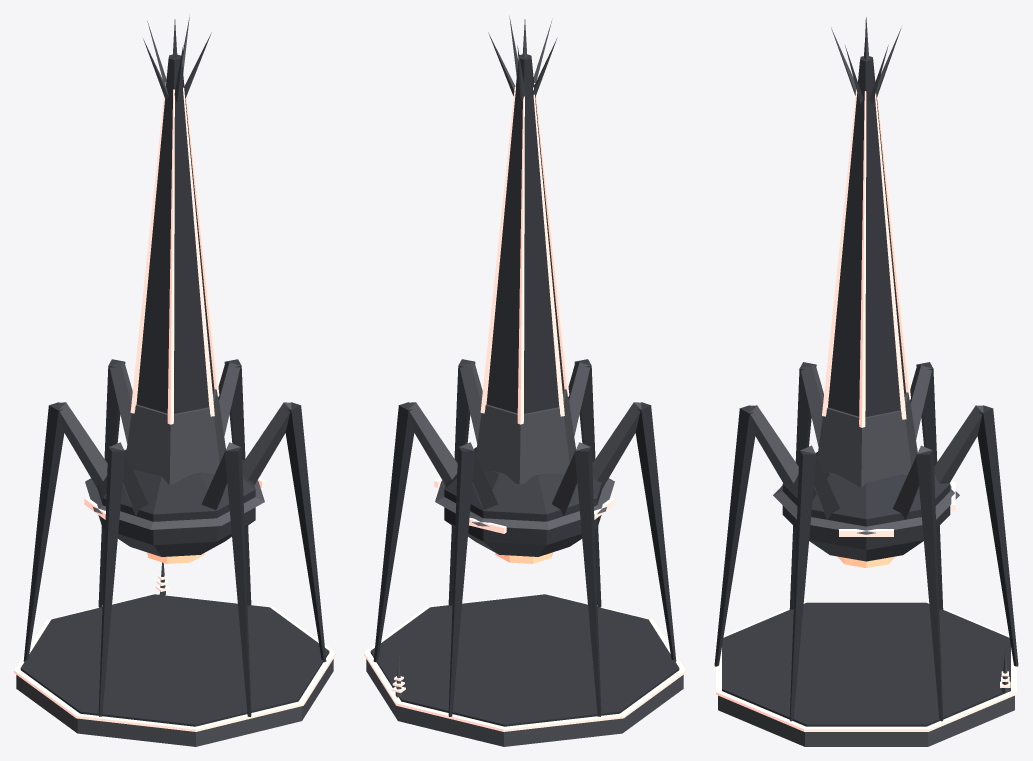
File: zone_high_4_t3.glb
3 views of the same model, side by side, from view 1: azimuth 30°, elevation 25°; view 2: azimuth 150°, elevation 25°; view 3: azimuth 270°, elevation 25° (orthographic).
Visible parts, largest first — view 1: zone_high_4_t3; view 2: zone_high_4_t3; view 3: zone_high_4_t3.
Boxes of the visible parts, x1,y1,x2,y2 form: zone_high_4_t3: (14, 17, 335, 746); zone_high_4_t3: (364, 16, 685, 746); zone_high_4_t3: (714, 17, 1018, 746).
Bounding box in the file's own units: 27.35 × 66.74 × 27.6.
